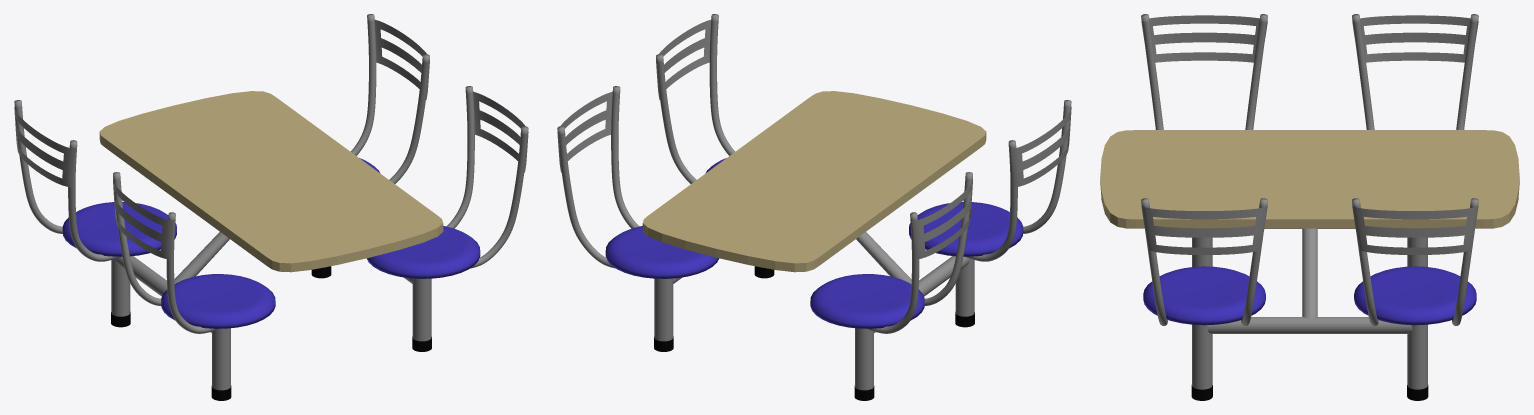
Rendered from mesa.fbx.
3 renders of one model, left to right at view 1: azimuth 30°, elevation 25°; view 2: azimuth 150°, elevation 25°; view 3: azimuth 270°, elevation 25°, orthographic. The views are drawn at different scales.
Visible parts, largest first — view 1: Cube, Cadeira2, Cadeira2.001, Cadeira1, Cylinder, Cadeira1.001, Cylinder.006, Cylinder.004; view 2: Cube, Cadeira1, Cadeira1.001, Cadeira2, Cylinder, Cadeira2.001, Cylinder.006, Cylinder.004; view 3: Cube, Cadeira1.001, Cadeira2.001, Cadeira1, Cadeira2, Cylinder, Cylinder.005, Cylinder.007.
Part boxes in pixels (bbox=[...]): Cube: bbox=[99, 91, 443, 272]; Cadeira2: bbox=[113, 172, 275, 333]; Cadeira2.001: bbox=[366, 86, 528, 278]; Cadeira1: bbox=[14, 100, 176, 261]; Cylinder: bbox=[111, 259, 431, 400]; Cadeira1.001: bbox=[350, 14, 429, 183]; Cylinder.006: bbox=[174, 232, 229, 283]; Cylinder.004: bbox=[116, 256, 211, 332]; Cube: bbox=[642, 91, 986, 272]; Cadeira1: bbox=[810, 172, 972, 333]; Cadeira1.001: bbox=[557, 86, 719, 278]; Cadeira2: bbox=[909, 100, 1071, 261]; Cylinder: bbox=[654, 259, 974, 400]; Cadeira2.001: bbox=[656, 14, 735, 183]; Cylinder.006: bbox=[856, 232, 911, 283]; Cylinder.004: bbox=[874, 256, 969, 332]; Cube: bbox=[1100, 130, 1519, 228]; Cadeira1.001: bbox=[1352, 198, 1478, 325]; Cadeira2.001: bbox=[1141, 198, 1267, 325]; Cadeira1: bbox=[1352, 14, 1478, 129]; Cadeira2: bbox=[1141, 14, 1267, 129]; Cylinder: bbox=[1191, 237, 1428, 400]; Cylinder.005: bbox=[1207, 317, 1412, 333]; Cylinder.007: bbox=[1302, 228, 1317, 318].
Size of the model in its own units: 755 by 426 by 683.
